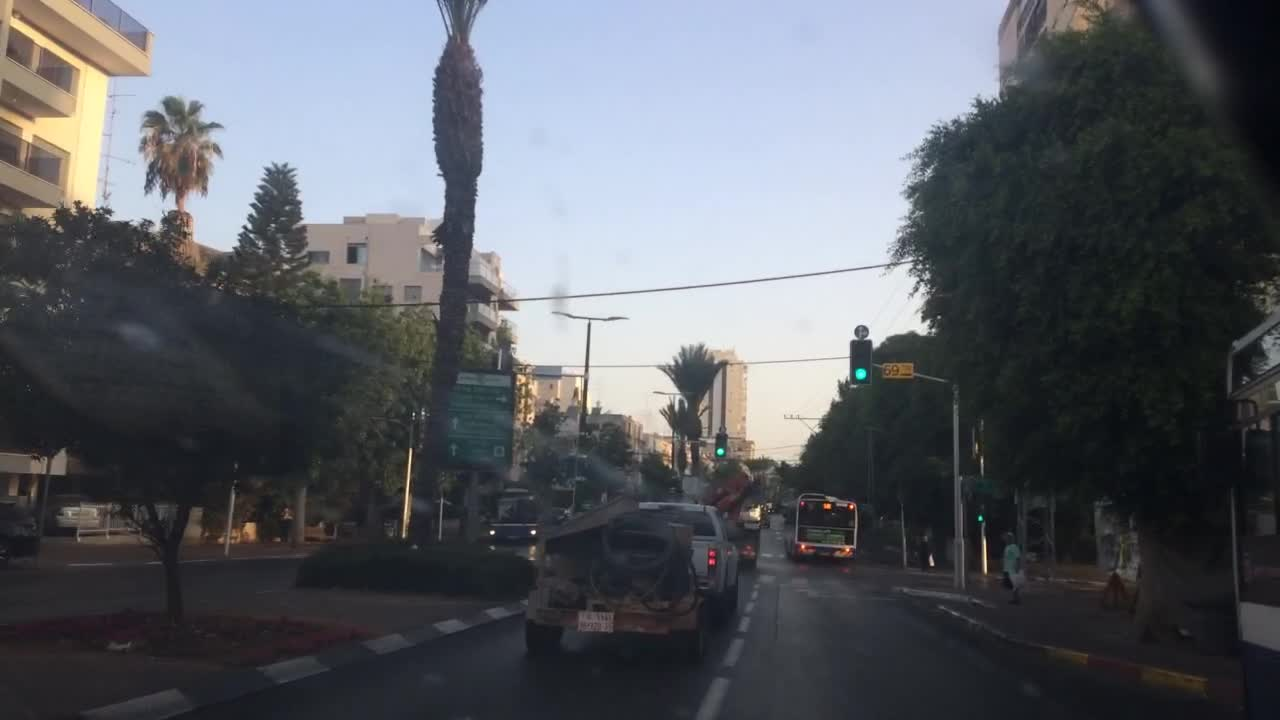bus: (1218, 303, 1278, 716), (784, 491, 859, 566), (484, 490, 543, 540), (544, 484, 576, 524)
car: (0, 491, 45, 568), (48, 495, 99, 533), (726, 521, 760, 571), (759, 511, 771, 527)
person: (996, 533, 1025, 606)
traffic light: (851, 336, 869, 383), (713, 430, 727, 459), (976, 503, 985, 522)
traffic sign: (445, 368, 515, 468), (882, 361, 912, 377), (853, 322, 868, 337)
truck: (518, 495, 742, 661)
